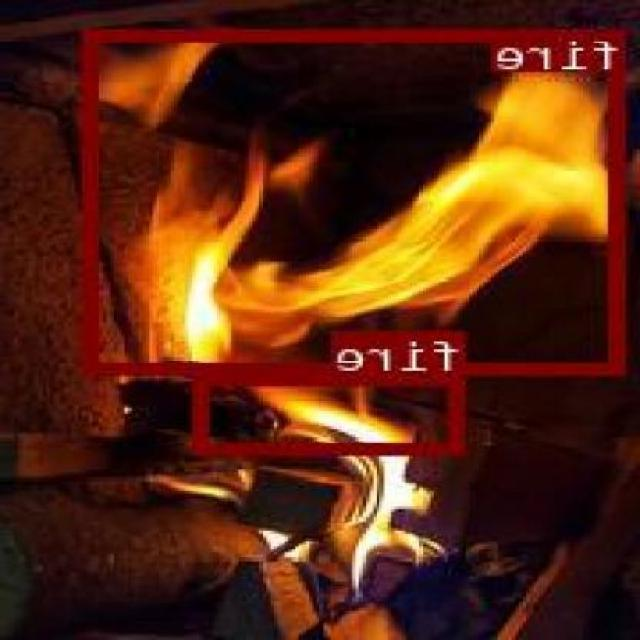Fire: (85, 27, 627, 373), (196, 370, 470, 452)
